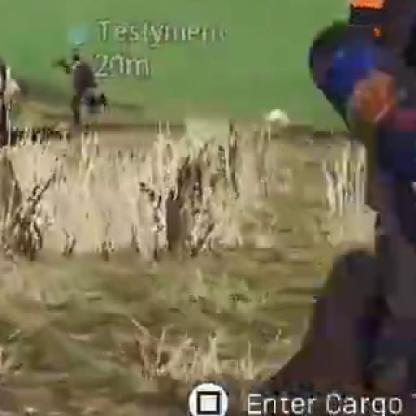enemy: (57, 51, 111, 131)
